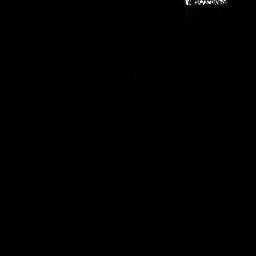ship: (185, 1, 230, 5)
